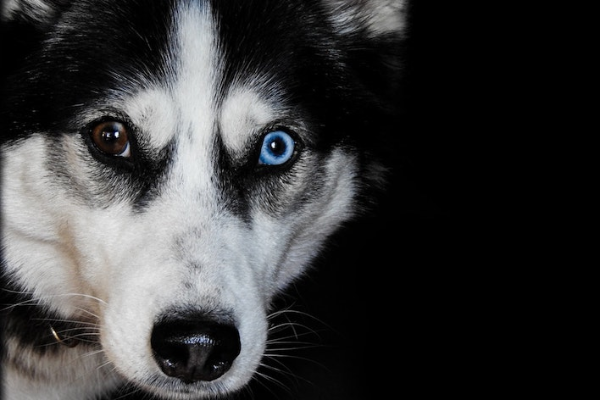husky: (7, 4, 437, 397)
